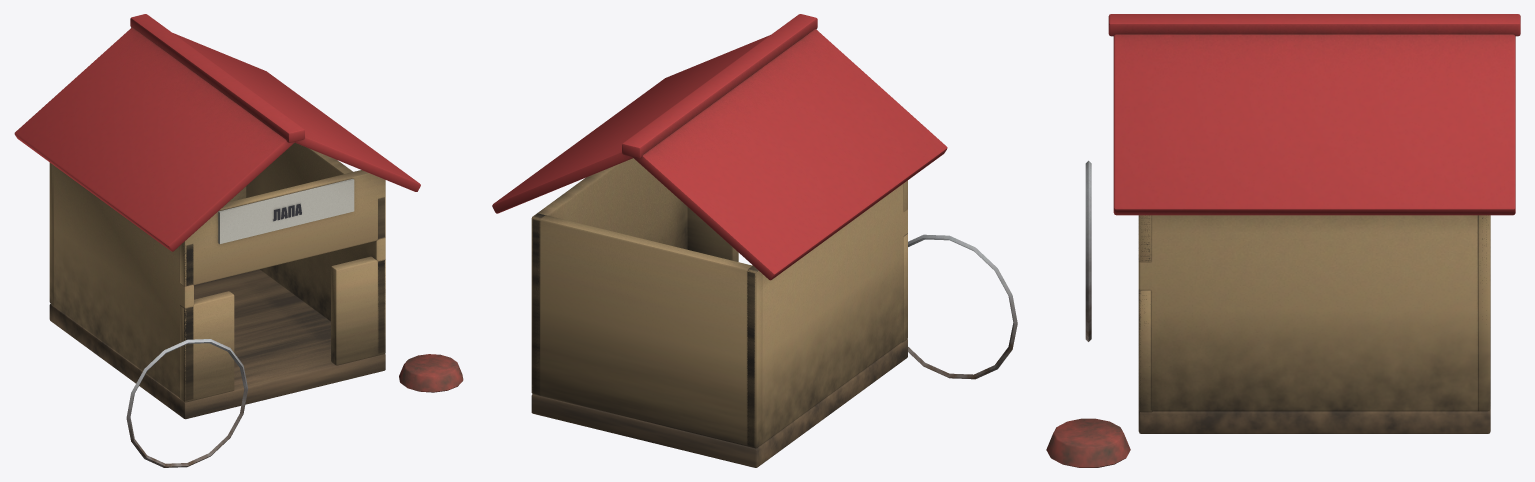
Rendered from g67_pz_kennel.glb.
The picture shows the model from 3 angles, left to right: view 1: azimuth 30°, elevation 25°; view 2: azimuth 150°, elevation 25°; view 3: azimuth 270°, elevation 25°; orthographic projection. The views are drawn at different scales.
Visible parts, largest first — view 1: g67_pz_kennel; view 2: g67_pz_kennel; view 3: g67_pz_kennel.
Boxes of the visible parts, <box> form: g67_pz_kennel: <box>14,14,463,467</box>; g67_pz_kennel: <box>492,14,1017,467</box>; g67_pz_kennel: <box>1046,14,1520,467</box>.
Size of the model in its own units: 1.98 by 1.71 by 1.89.
1 material, 1 textured.
